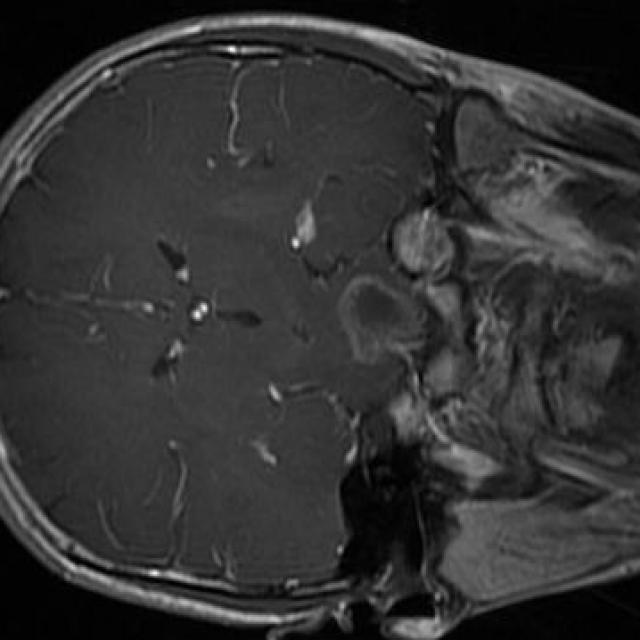glioma: (335, 275, 428, 367)
